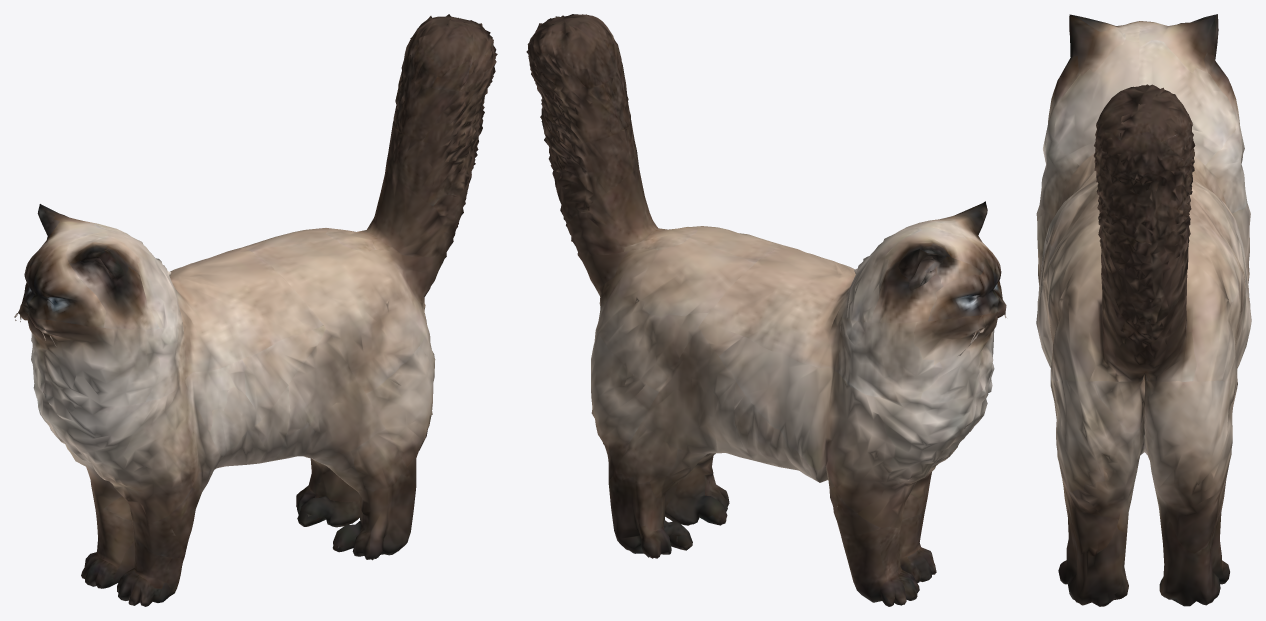
The model's file is MRJINX-lo.glb.
The picture shows the model from 3 angles, left to right: view 1: azimuth 30°, elevation 25°; view 2: azimuth 150°, elevation 25°; view 3: azimuth 270°, elevation 25°; orthographic projection. The views are drawn at different scales.
Visible parts, largest first — view 1: tripo_node_951a98ae-6414-4265-a016-83f19e4021c8; view 2: tripo_node_951a98ae-6414-4265-a016-83f19e4021c8; view 3: tripo_node_951a98ae-6414-4265-a016-83f19e4021c8.
Part boxes in pixels (x1=…): tripo_node_951a98ae-6414-4265-a016-83f19e4021c8: x1=14, y1=14, x2=497, y2=606; tripo_node_951a98ae-6414-4265-a016-83f19e4021c8: x1=526, y1=14, x2=1006, y2=606; tripo_node_951a98ae-6414-4265-a016-83f19e4021c8: x1=1036, y1=14, x2=1251, y2=606.
Bounding box in the file's own units: 0.9893 × 0.999 × 0.3492.
Materials: 1 (1 with a texture image).
